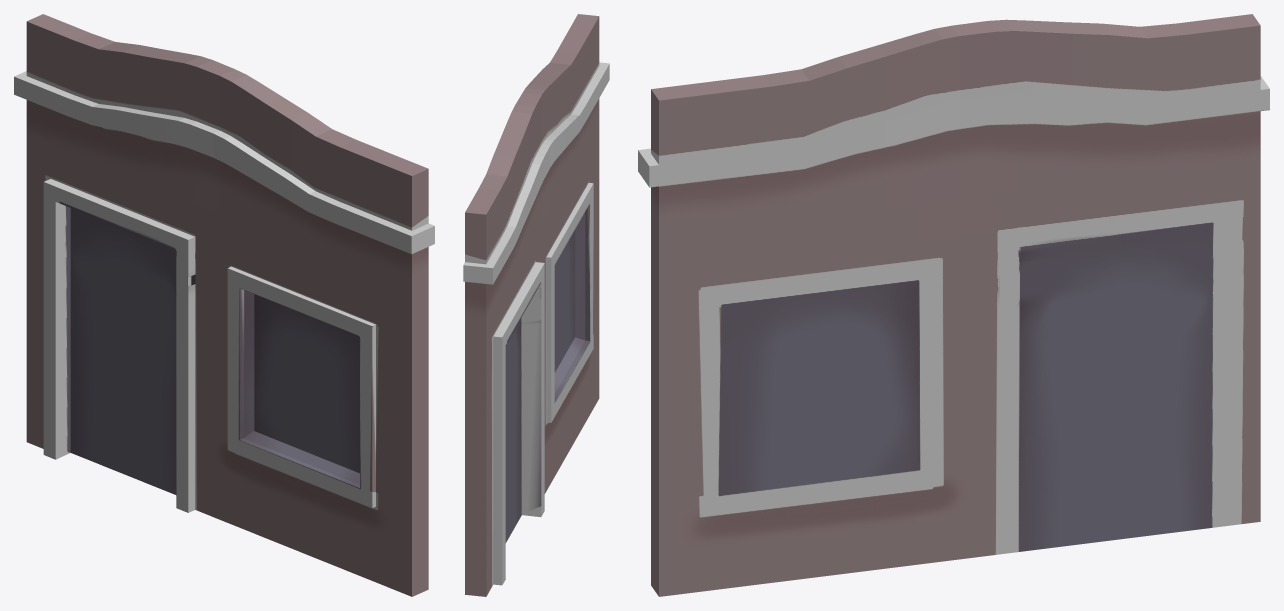
The model's file is casa1.fbx.
The picture shows the model from 3 angles, left to right: view 1: azimuth 30°, elevation 25°; view 2: azimuth 150°, elevation 25°; view 3: azimuth 270°, elevation 25°; orthographic projection. The views are drawn at different scales.
Parts seen in each view (by area): view 1: casa1; view 2: casa1; view 3: casa1.
Part boxes in pixels (bbox=[...]): casa1: bbox=[14, 14, 434, 596]; casa1: bbox=[463, 14, 609, 596]; casa1: bbox=[638, 14, 1269, 596].
Size of the model in its own units: 70.06 by 182 by 200.
1 material, 1 textured.
